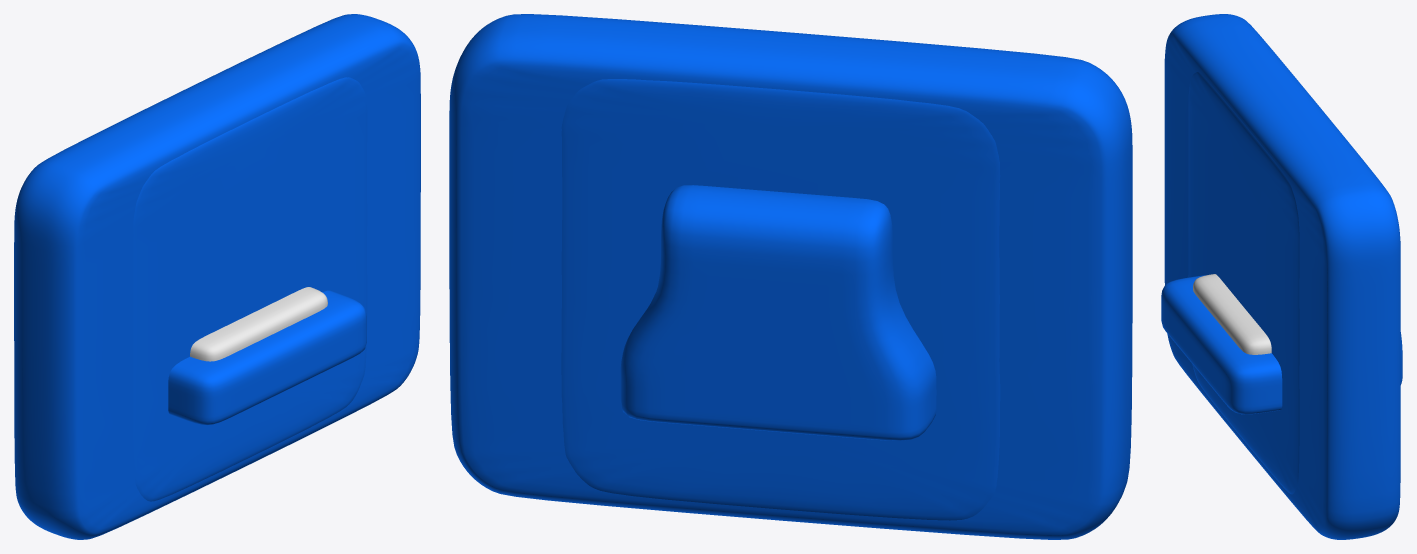
File: tech-stack.glb
3 renders of one model, left to right at view 1: azimuth 30°, elevation 25°; view 2: azimuth 150°, elevation 25°; view 3: azimuth 270°, elevation 25°, orthographic. The views are drawn at different scales.
Parts seen in each view (by area): view 1: Cube.015, Cube.025, Cube.022, Cube.023; view 2: Cube.015, Cube.025, Cube.022; view 3: Cube.015, Cube.025, Cube.022, Cube.023.
Boxes of the visible parts, left/top/right/bottom form: Cube.015: left=14, top=14, right=420, bottom=539; Cube.025: left=133, top=77, right=367, bottom=501; Cube.022: left=168, top=290, right=366, bottom=425; Cube.023: left=190, top=287, right=327, bottom=361; Cube.015: left=449, top=14, right=1132, bottom=539; Cube.025: left=561, top=79, right=1000, bottom=520; Cube.022: left=620, top=185, right=936, bottom=440; Cube.015: left=1164, top=14, right=1400, bottom=539; Cube.025: left=1188, top=72, right=1299, bottom=494; Cube.022: left=1161, top=275, right=1402, bottom=414; Cube.023: left=1193, top=274, right=1271, bottom=354.
Size of the model in its own units: 165889 by 128284 by 79503.
